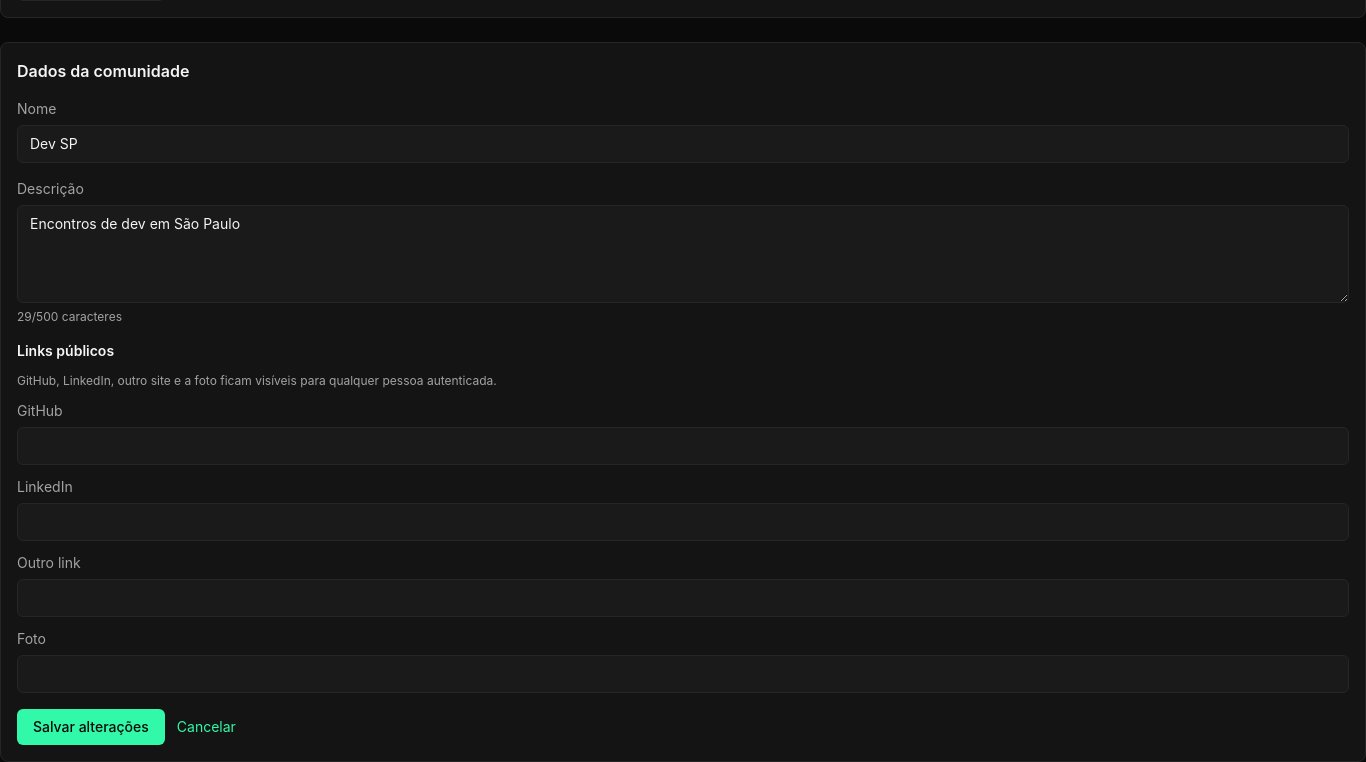
EditCommunityPage › 403 alerta que só o responsável pode alterar a comunidade
(page scrolled)
Click the button "Salvar alterações".
click(91, 727)  # box top-left (17, 709), bottom-right (165, 745)
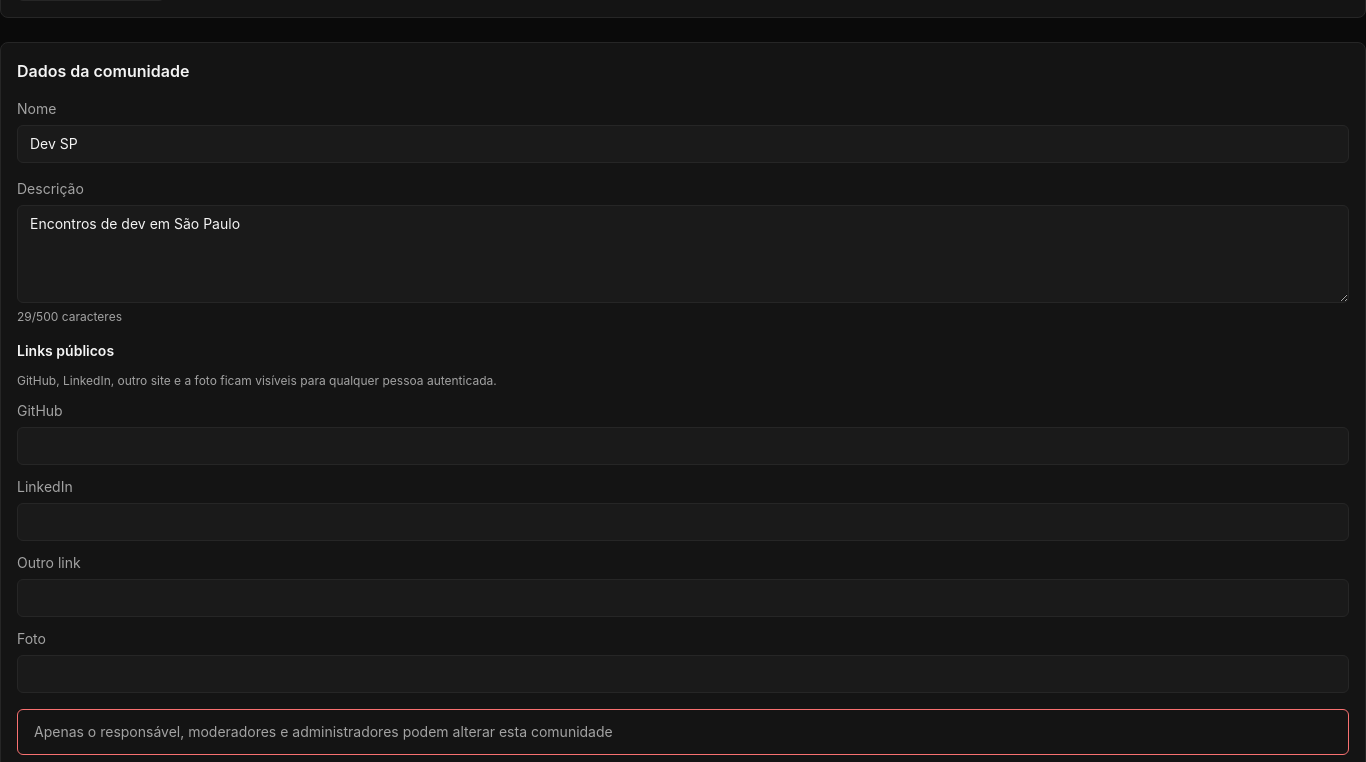
Expected: the text "Apenas o responsável, moderadores e administradores podem alterar esta comunidade" is shown, top-left (34, 723), bottom-right (613, 740)
